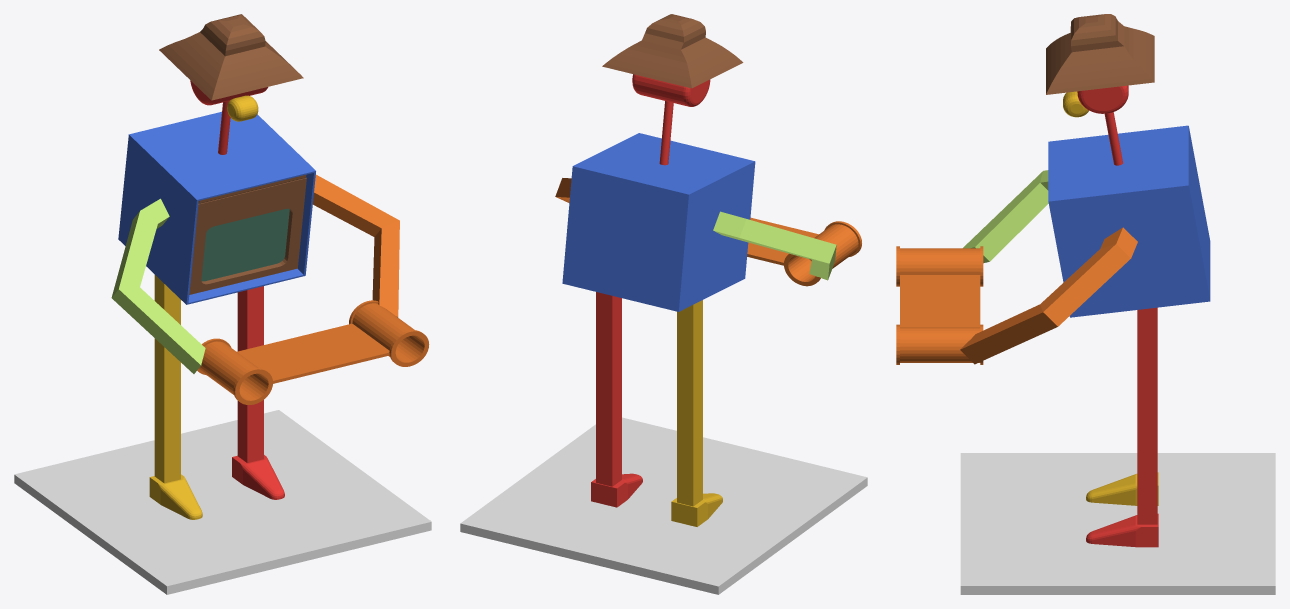
The model's file is Seodo_Statue4.fbx.
3 views of the same model, side by side, from view 1: azimuth 30°, elevation 25°; view 2: azimuth 150°, elevation 25°; view 3: azimuth 270°, elevation 25° (orthographic). The views are drawn at different scales.
Visible parts, largest first — view 1: SM_Statue4_Support, SM_Statue4_Body, SM_Statue4_Arm_R, SM_Statue4_Hat, SM_Statue4_TV, SM_Statue4_Leg_L, SM_Statue4_Arm_L, SM_Statue4_Leg_R, SM_Statue4_TV Screen, SM_Statue4_Head, SM_Statue4_Head2; view 2: SM_Statue4_Support, SM_Statue4_Body, SM_Statue4_Leg_L, SM_Statue4_Leg_R, SM_Statue4_Hat, SM_Statue4_Arm_L, SM_Statue4_Arm_R, SM_Statue4_Head; view 3: SM_Statue4_Support, SM_Statue4_Body, SM_Statue4_Arm_R, SM_Statue4_Hat, SM_Statue4_Leg_R, SM_Statue4_Arm_L, SM_Statue4_Head, SM_Statue4_Leg_L.
Part boxes in pixels (x1,y1,x2,y2): SM_Statue4_Support: (14,410,431,594); SM_Statue4_Body: (118,111,315,304); SM_Statue4_Arm_R: (197,174,429,404); SM_Statue4_Hat: (159,14,303,100); SM_Statue4_TV: (189,175,306,294); SM_Statue4_Leg_L: (149,275,202,519); SM_Statue4_Arm_L: (111,198,205,373); SM_Statue4_Leg_R: (232,286,284,499); SM_Statue4_TV Screen: (201,208,289,281); SM_Statue4_Head: (190,80,268,154); SM_Statue4_Head2: (227,95,258,121); SM_Statue4_Support: (460,417,867,594); SM_Statue4_Body: (562,133,755,311); SM_Statue4_Leg_L: (671,300,722,526); SM_Statue4_Leg_R: (591,292,642,507); SM_Statue4_Hat: (602,14,743,88); SM_Statue4_Arm_L: (713,211,836,280); SM_Statue4_Arm_R: (555,178,861,286); SM_Statue4_Head: (632,74,710,165); SM_Statue4_Support: (960,453,1275,594); SM_Statue4_Body: (1048,125,1210,317); SM_Statue4_Arm_R: (896,227,1137,364); SM_Statue4_Hat: (1046,14,1154,94); SM_Statue4_Leg_R: (1086,307,1158,547); SM_Statue4_Arm_L: (963,170,1048,263); SM_Statue4_Head: (1077,85,1128,165); SM_Statue4_Leg_L: (1086,472,1158,505).
Size of the model in its own units: 112 by 188 by 127.
